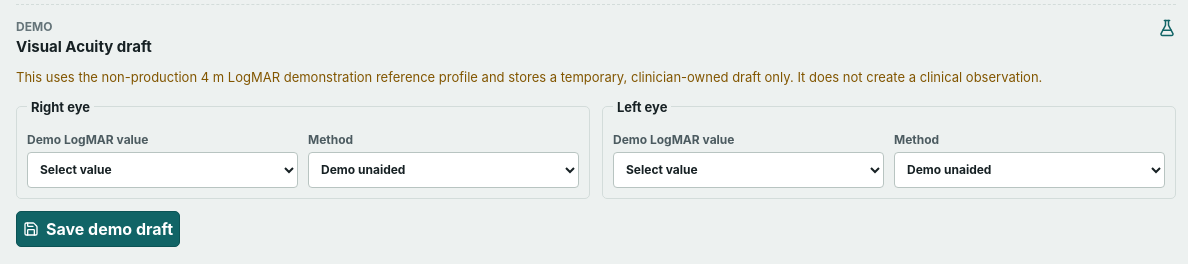
VisualAcuityDraftDemo › saves a development-only, draft-only payload without browser-supplied scope
The width and height of the screenshot is (1188, 264).
Select "-0.28" in the dropdown named "Right eye demonstration value" at (162, 170), box [27,152,298,188]
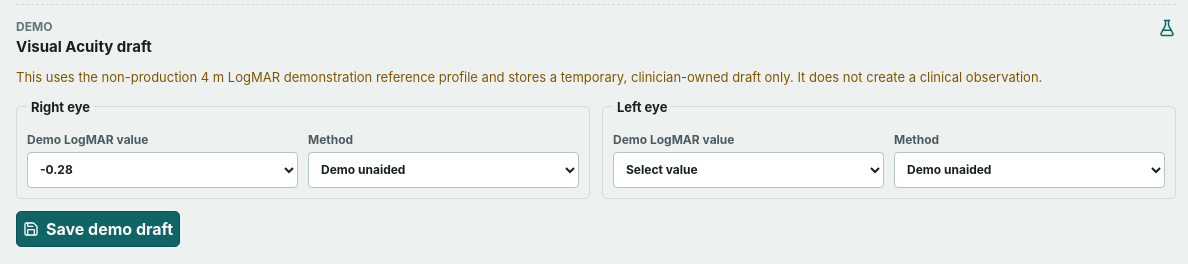
Select "1.50" in the dropdown named "Left eye demonstration value" at (748, 170), box [613,152,884,188]
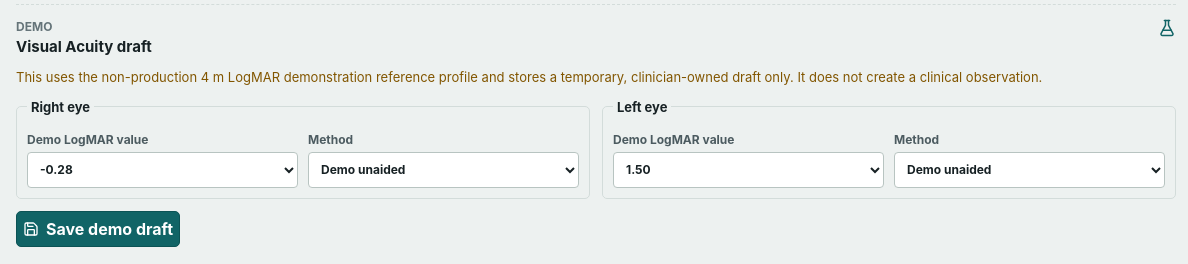
Click the button "Save demo draft".
click(98, 229)  # box [16,211,180,247]
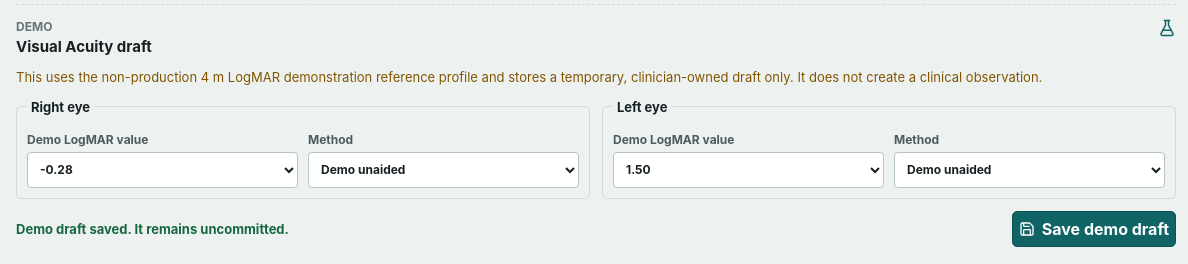
Result: the message shows "Demo draft saved" at [16,221,289,237]
